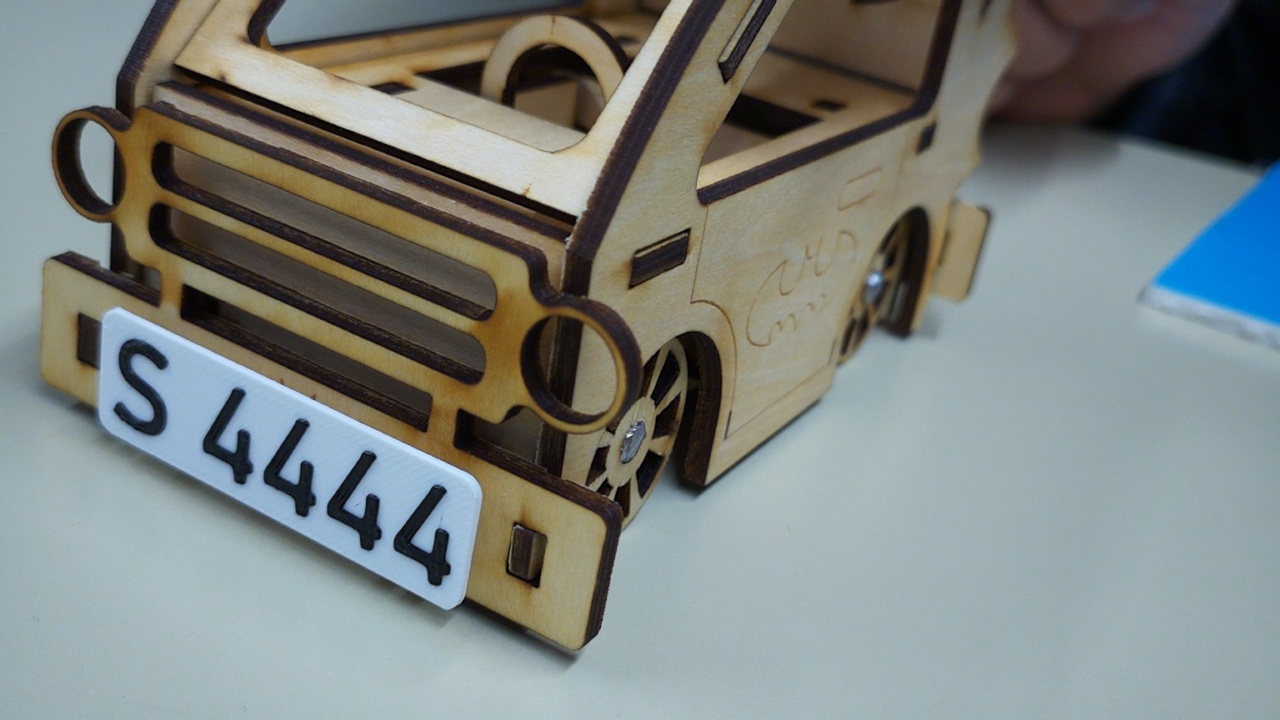license_plate: (93, 302, 485, 614)
